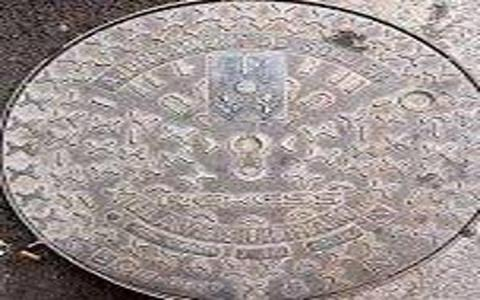proper manhole: (1, 1, 477, 298)
